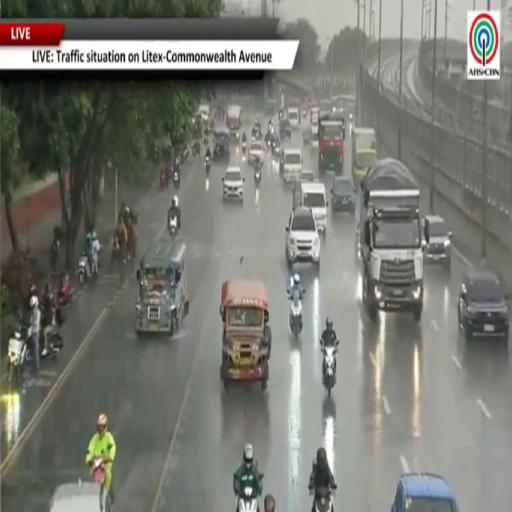car: (458, 269, 509, 340), (391, 473, 458, 511), (285, 206, 320, 268), (423, 216, 452, 269), (50, 483, 99, 511), (301, 183, 327, 233), (331, 175, 356, 213), (222, 167, 244, 201), (283, 149, 302, 183), (213, 126, 230, 161), (248, 141, 265, 164), (288, 107, 300, 129), (197, 104, 210, 122), (280, 119, 291, 139), (300, 169, 315, 182), (279, 149, 284, 175)
jeepney: (220, 280, 270, 391), (136, 240, 188, 335)
motorcycle: (8, 332, 31, 383), (41, 309, 63, 359), (92, 458, 111, 511), (321, 341, 339, 396), (77, 252, 98, 283), (289, 291, 302, 337), (55, 280, 74, 310), (237, 486, 258, 511), (111, 234, 125, 265), (315, 488, 333, 511), (50, 239, 59, 271), (168, 216, 178, 239), (160, 171, 168, 189), (173, 170, 180, 189), (254, 167, 261, 186), (272, 139, 279, 156), (205, 156, 211, 174), (242, 141, 247, 153)
truck: (358, 158, 428, 321), (318, 114, 345, 175), (352, 127, 377, 182), (227, 105, 241, 140)
